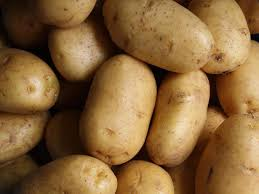potato: (110, 0, 217, 76), (79, 51, 152, 162), (198, 113, 259, 194), (194, 3, 257, 80), (157, 72, 202, 166), (15, 154, 115, 194), (0, 52, 63, 113)
